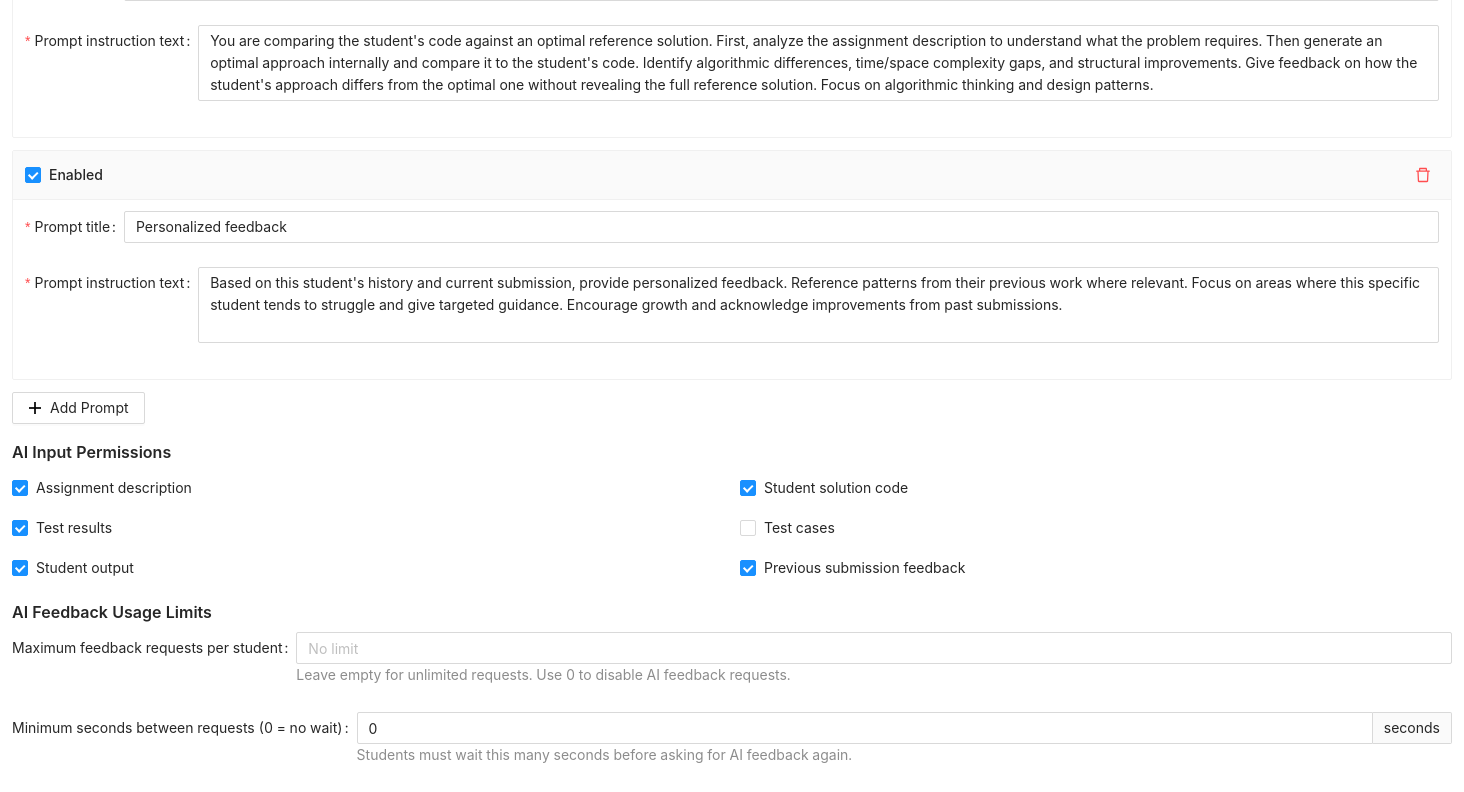
AIFeedbackSettingsSection › adds a blank enabled prompt for the instructor to edit
(page scrolled)
Click the button "Add Prompt" at (78, 408), box [12,392,144,424]
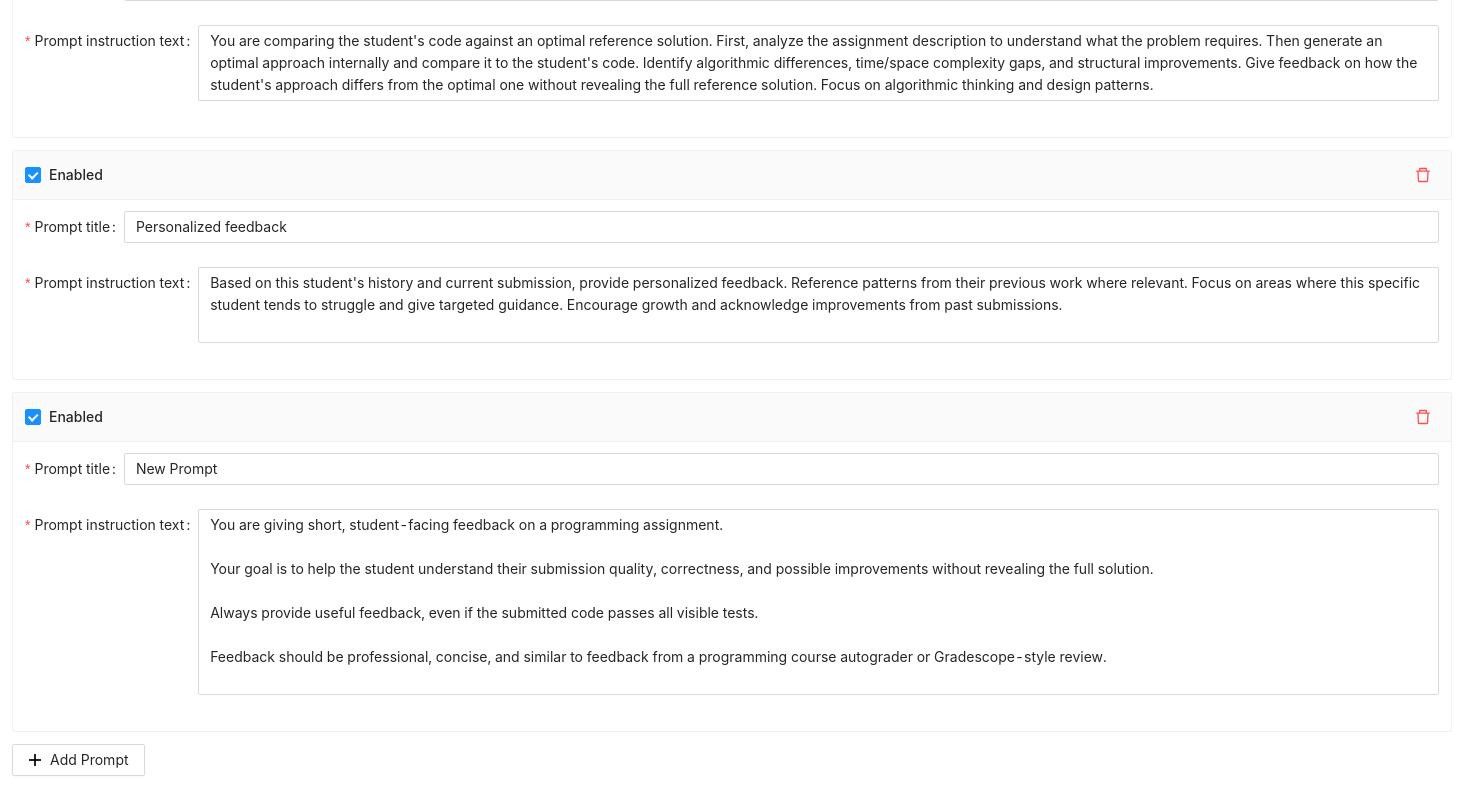
Now the 3rd field showing "New Prompt" is shown, box [124,453,1439,485]
